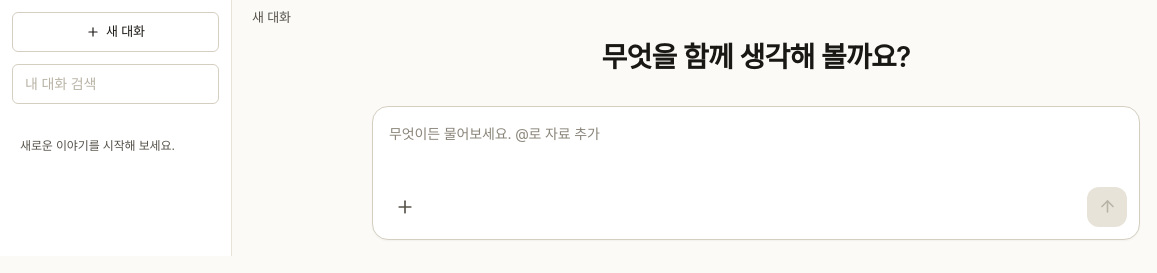
Test: AI 연구 채팅 › 설정이나 카테고리를 고르는 단계 없이 질문 초안을 작성한다
In the text box named "연구 질문": x=756, y=150 left=385, top=118, right=1127, bottom=182, type "자유롭게 시작해보자"
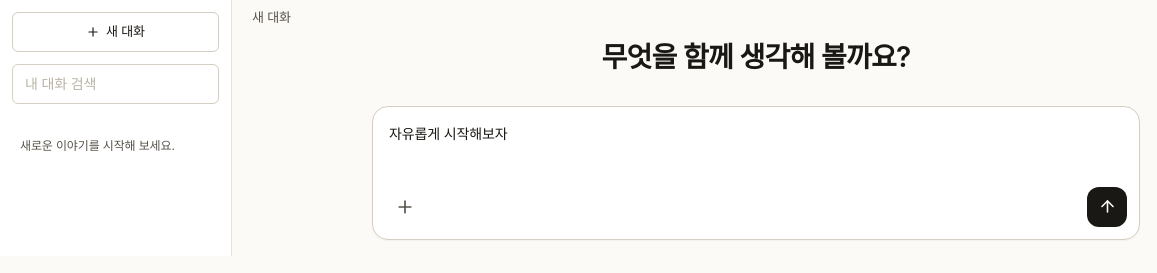
Check: the button named "보내기" is enabled, box left=1087, top=186, right=1127, bottom=226
